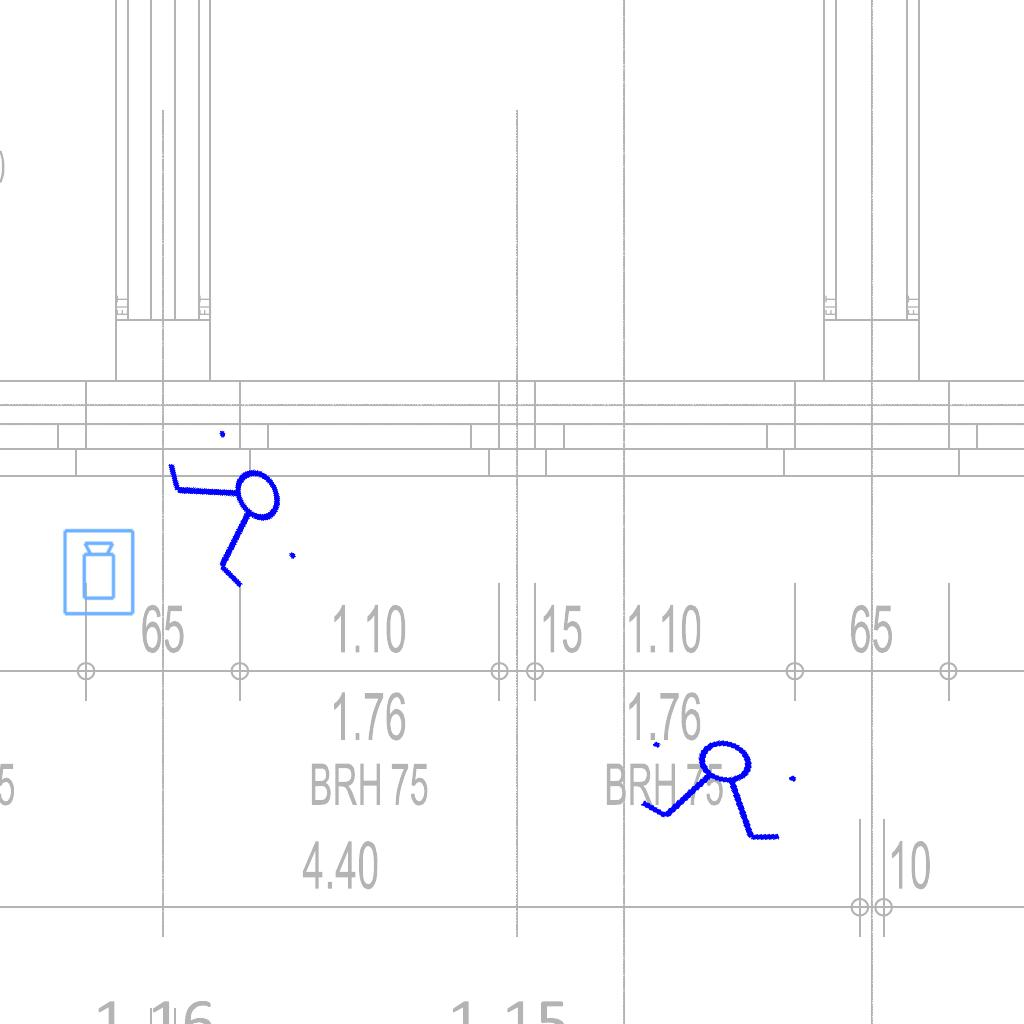KFO_Kamera_mit_Festobjektiv: (61, 527, 138, 618)
Serienschalter: (152, 412, 320, 606), (626, 720, 814, 854)
